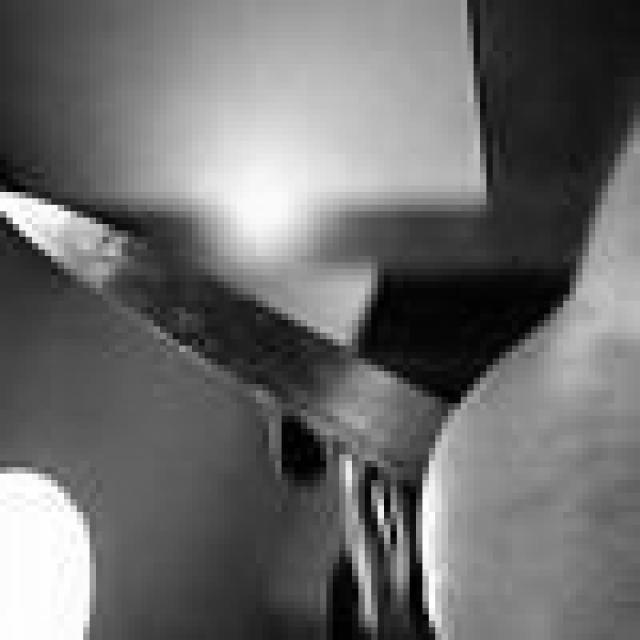knife: (1, 194, 454, 481)
